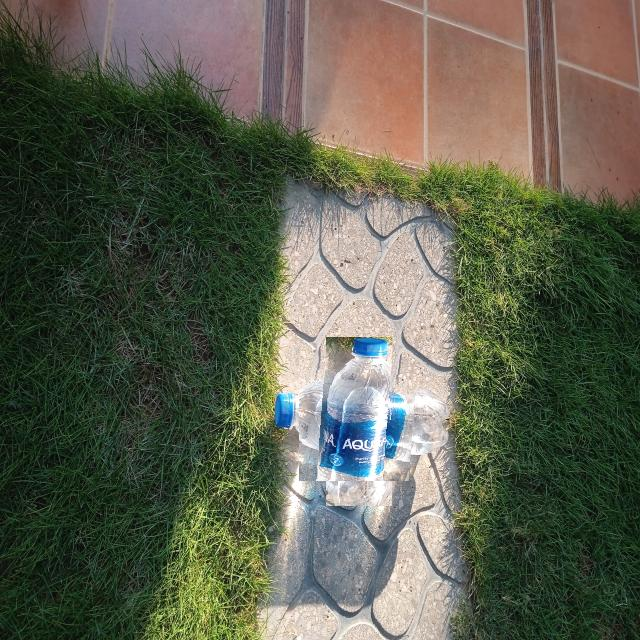Plastic: (300, 362, 418, 481)
